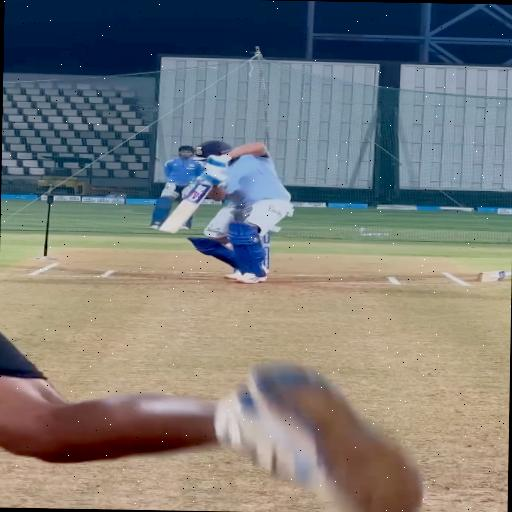Cricket bat: (161, 183, 211, 233)
